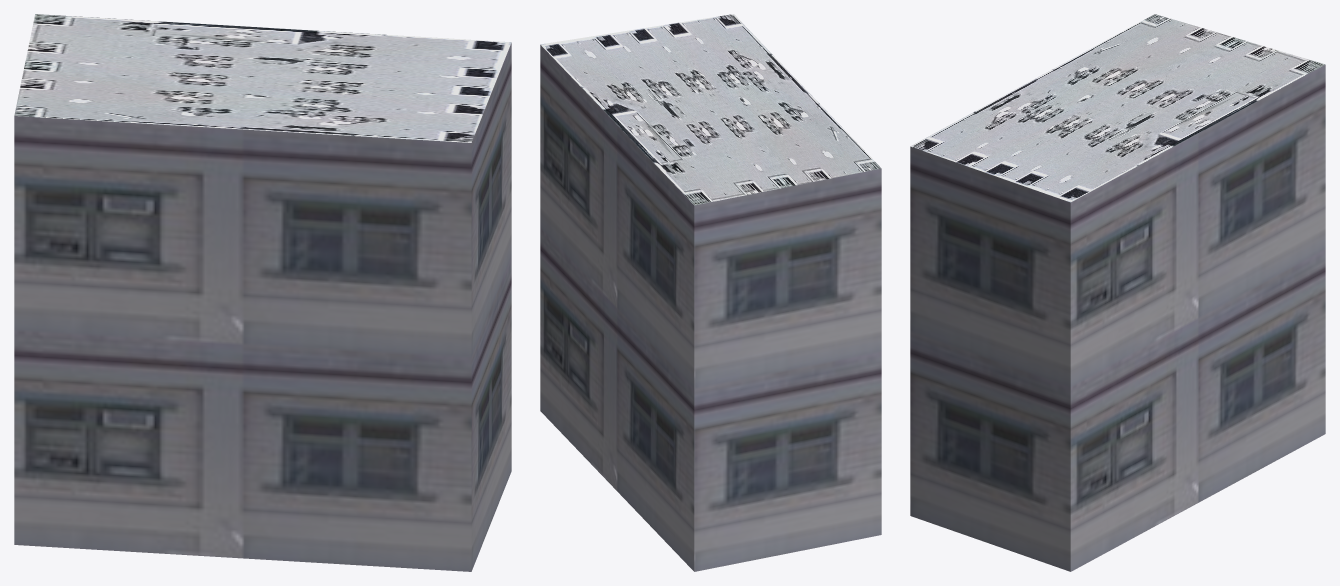
File: ResTex__5137.fbx
The picture shows the model from 3 angles, left to right: view 1: azimuth 30°, elevation 25°; view 2: azimuth 150°, elevation 25°; view 3: azimuth 270°, elevation 25°; orthographic projection. The views are drawn at different scales.
Parts seen in each view (by area): view 1: CityEngineMaterial_1_m, CityEngineMaterial_m; view 2: CityEngineMaterial_1_m, CityEngineMaterial_m; view 3: CityEngineMaterial_1_m, CityEngineMaterial_m.
Part boxes in pixels (x1,y1,x2,y2): CityEngineMaterial_1_m: (14, 43, 511, 571); CityEngineMaterial_m: (14, 14, 511, 142); CityEngineMaterial_1_m: (540, 45, 881, 571); CityEngineMaterial_m: (540, 14, 881, 205); CityEngineMaterial_1_m: (910, 65, 1325, 571); CityEngineMaterial_m: (910, 14, 1325, 202).
Bounding box in the file's own units: 6.57 × 6 × 6.12.
Materials: 2 (2 with a texture image).
